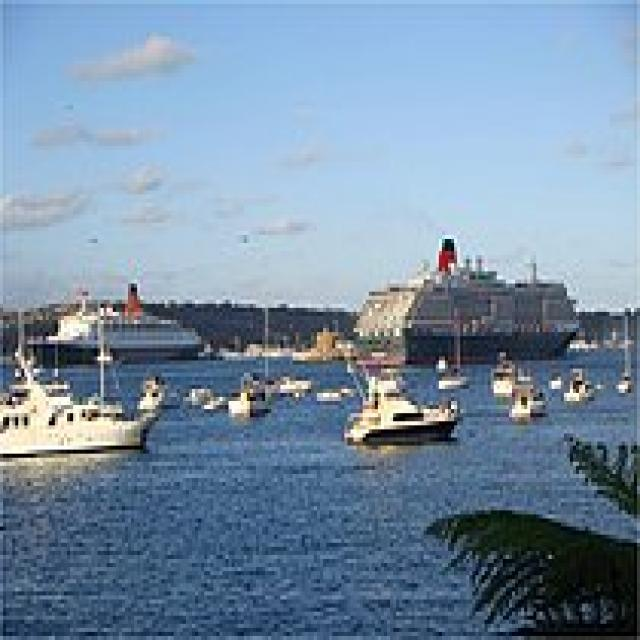boat: (341, 290, 583, 364), (0, 356, 158, 454), (29, 295, 217, 360), (334, 368, 468, 457), (220, 380, 274, 418), (134, 373, 178, 416), (280, 371, 329, 407), (616, 315, 634, 408), (506, 390, 548, 422), (488, 358, 522, 397), (561, 378, 599, 402)
